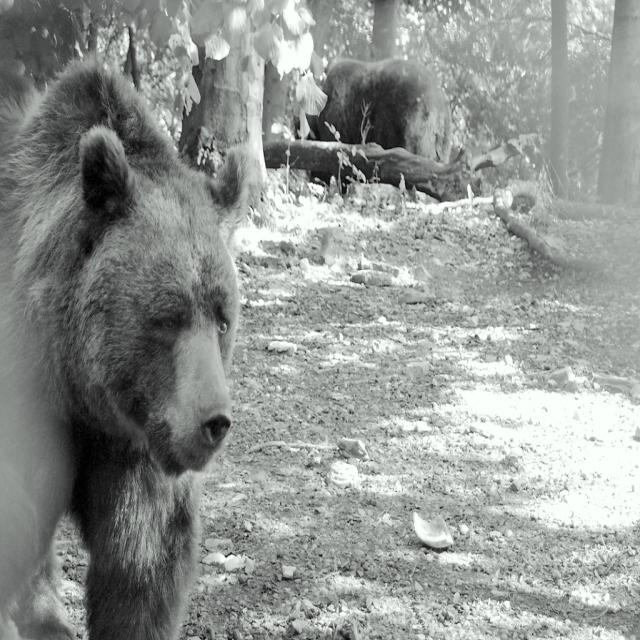Cheetahs: (1, 40, 267, 638)
